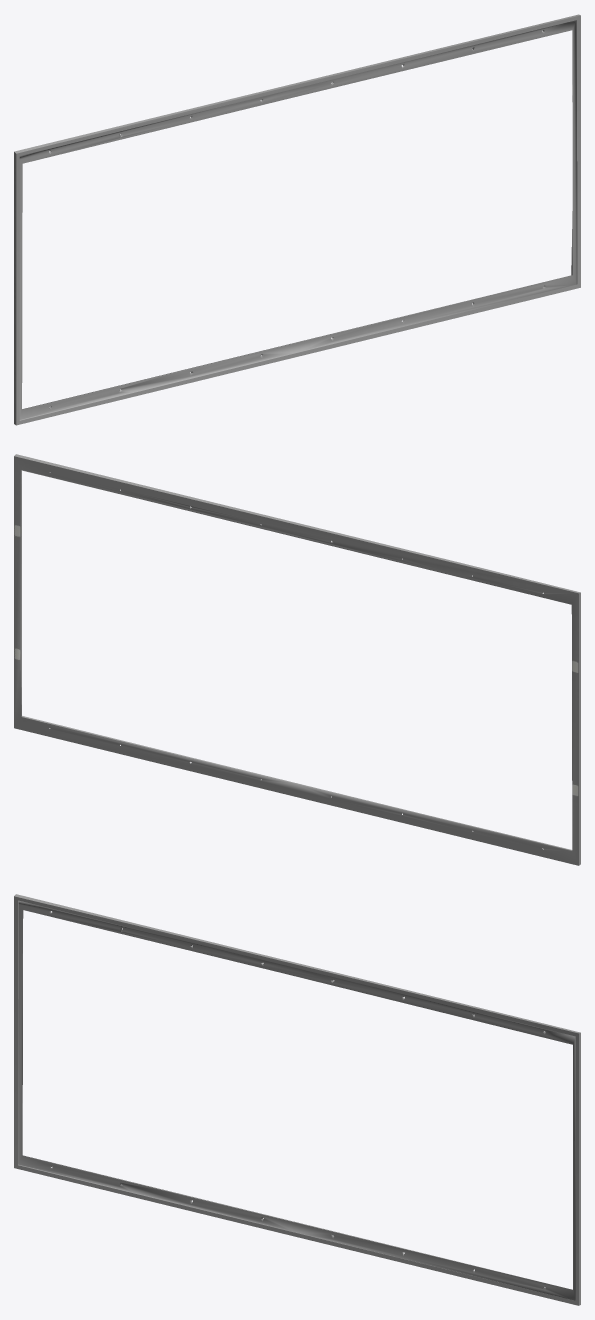
The model's file is lysekil_szyna_panelu_sciennego_80335117.glb.
3 renders of one model, top to bottom at view 1: azimuth 30°, elevation 25°; view 2: azimuth 150°, elevation 25°; view 3: azimuth 330°, elevation 25°, orthographic.
Visible parts, largest first — view 1: lysekil_szyna_panelu_sciennego_80335117; view 2: lysekil_szyna_panelu_sciennego_80335117; view 3: lysekil_szyna_panelu_sciennego_80335117.
Boxes of the visible parts, <box> form: lysekil_szyna_panelu_sciennego_80335117: <box>14,14,580,425</box>; lysekil_szyna_panelu_sciennego_80335117: <box>14,454,580,865</box>; lysekil_szyna_panelu_sciennego_80335117: <box>14,894,580,1305</box>.
Bounding box in the file's own units: 1.2 × 0.5548 × 0.00799.
1 material, 1 textured.
